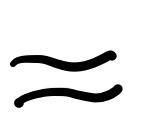eqv: (9, 50, 123, 111)
